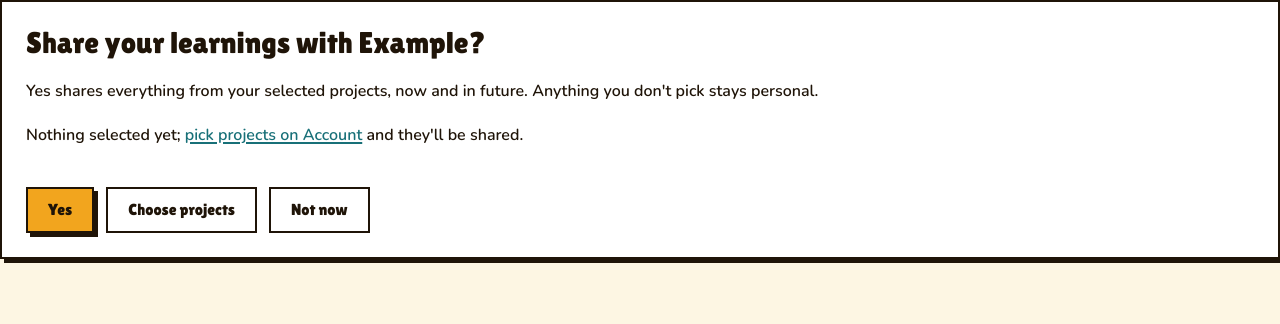
keeps an unsuccessful answer visible with its error
The width and height of the screenshot is (1280, 324).
Click the button "Yes" at (60, 210), box [26, 187, 94, 233]
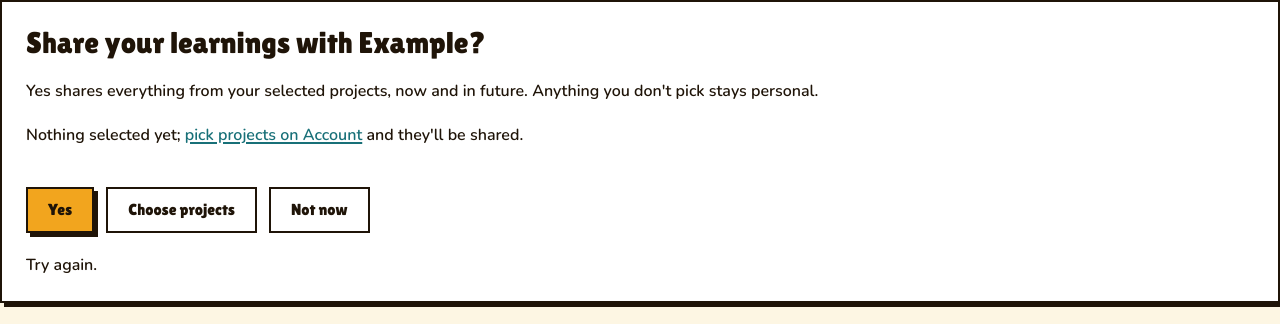
Expected: the message "Try again." is shown, [26, 254, 97, 276]
